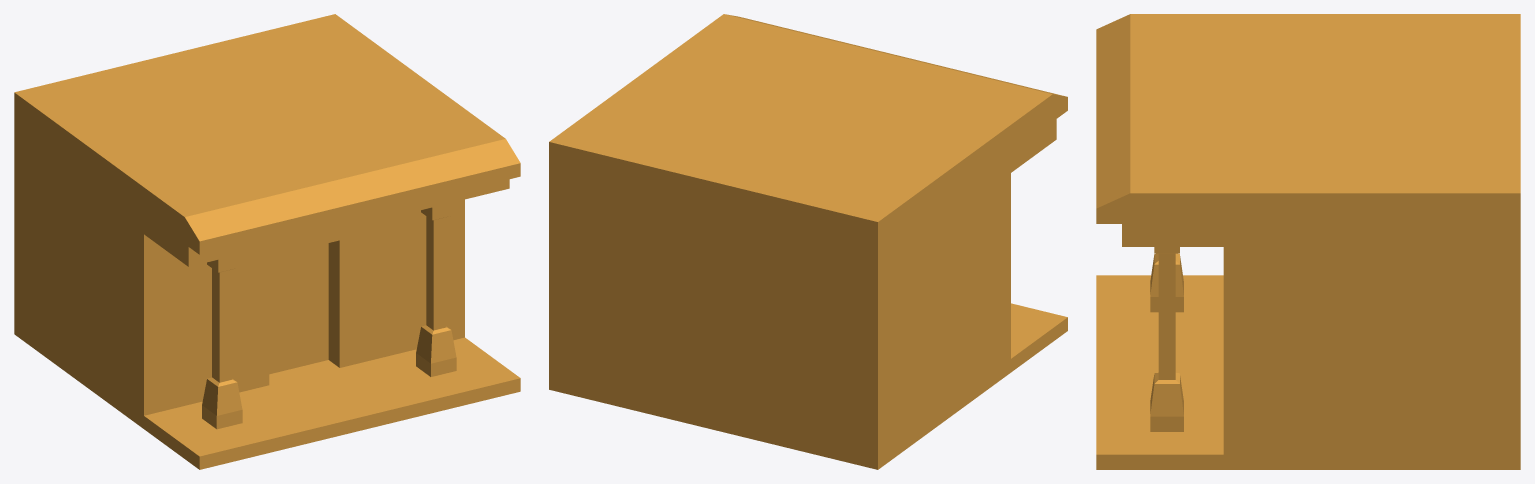
Rendered from india-hindu-wall-interior-door.glb.
The picture shows the model from 3 angles, left to right: view 1: azimuth 30°, elevation 25°; view 2: azimuth 150°, elevation 25°; view 3: azimuth 270°, elevation 25°; orthographic projection. The views are drawn at different scales.
Visible parts, largest first — view 1: hindu-wall-interior-door; view 2: hindu-wall-interior-door; view 3: hindu-wall-interior-door.
Part boxes in pixels (x1,y1,x2,y2): hindu-wall-interior-door: (14, 14, 520, 469); hindu-wall-interior-door: (549, 14, 1067, 469); hindu-wall-interior-door: (1096, 14, 1520, 469).
Bounding box in the file's own units: 5 × 3.6 × 5.
